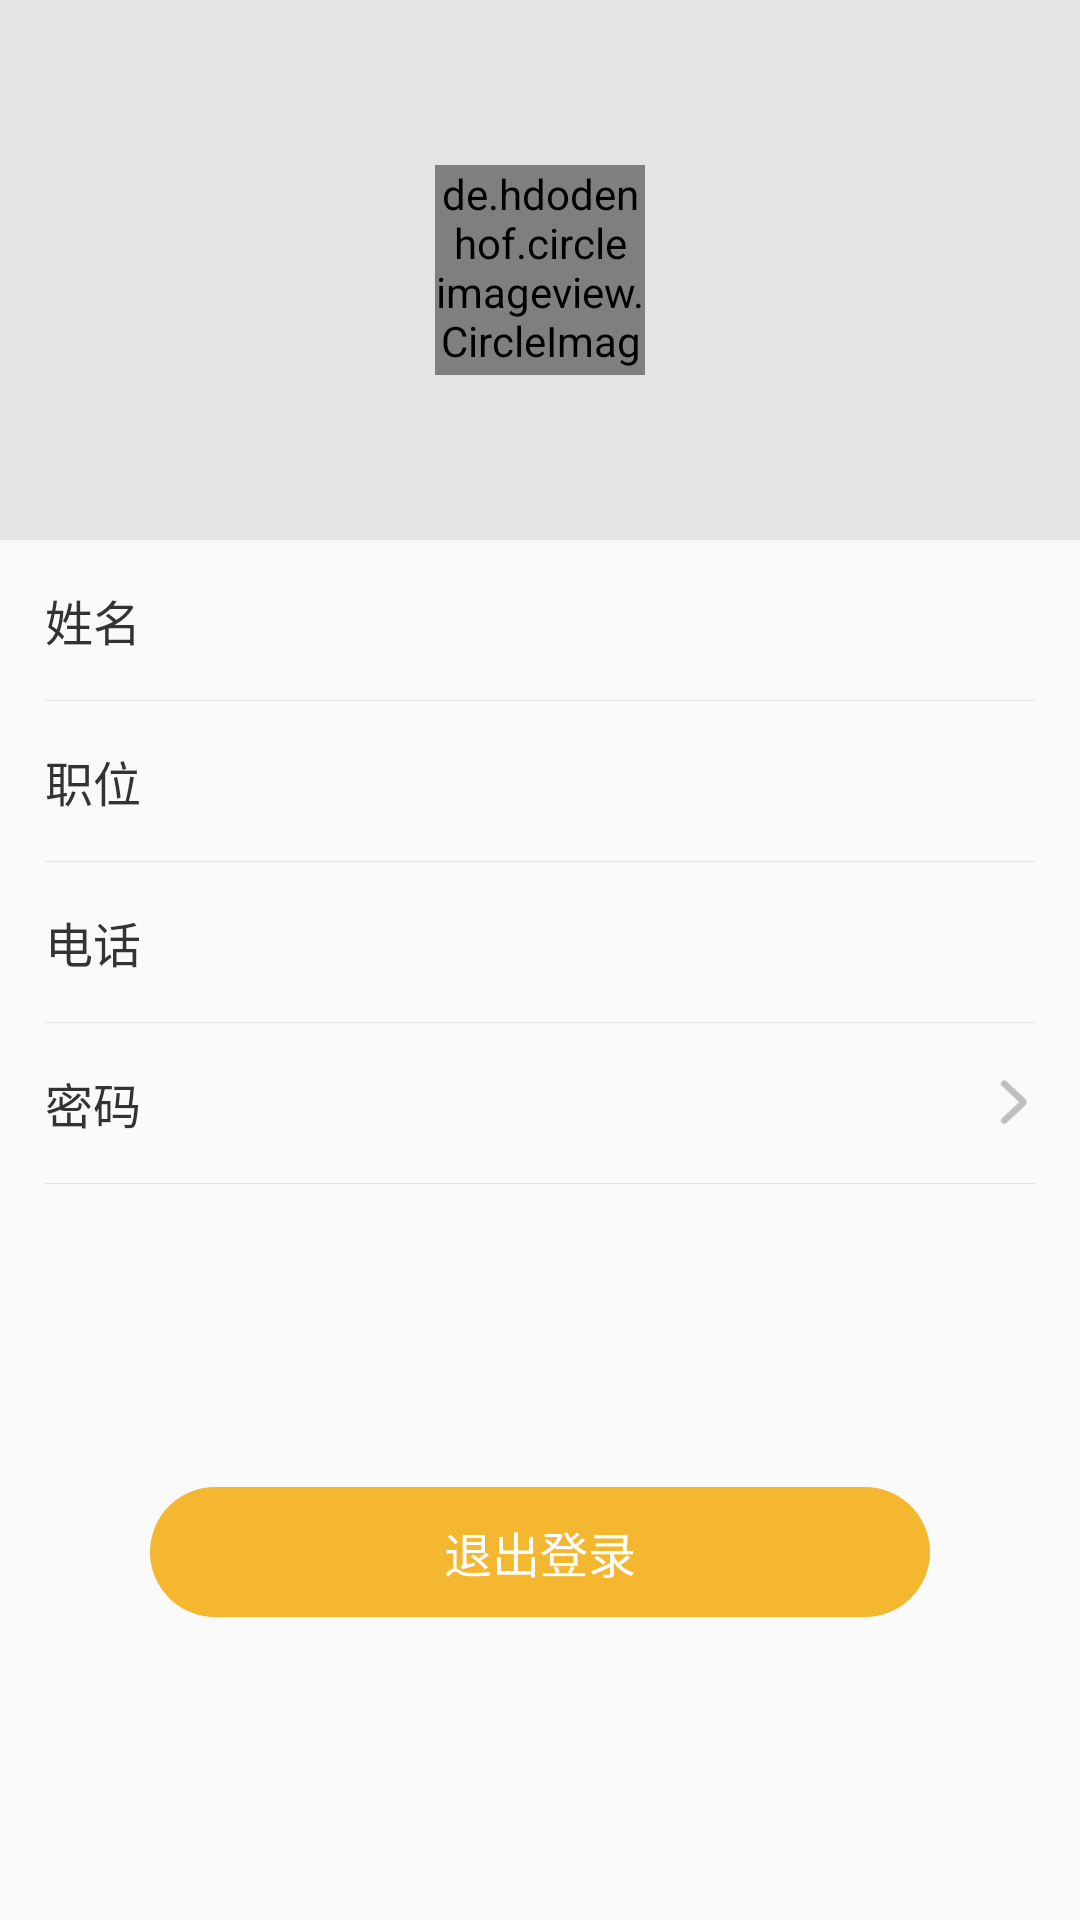

Icons on this 1080 x 1920 Android screen, each with its box as (x1, y1, x2, y2):
arrow right: (1001, 1080, 1027, 1124)
